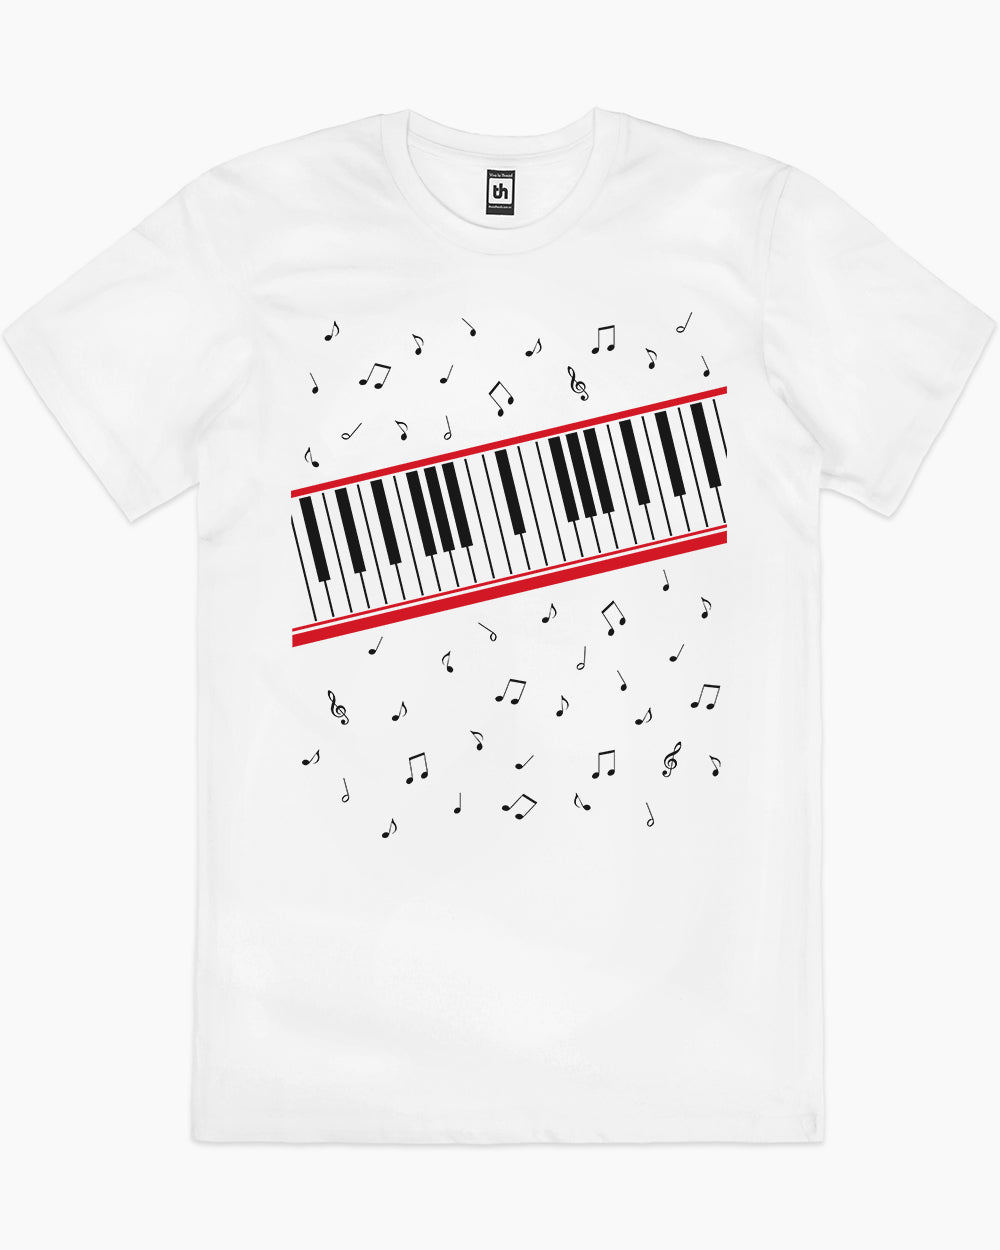design: (286, 308, 731, 843)
